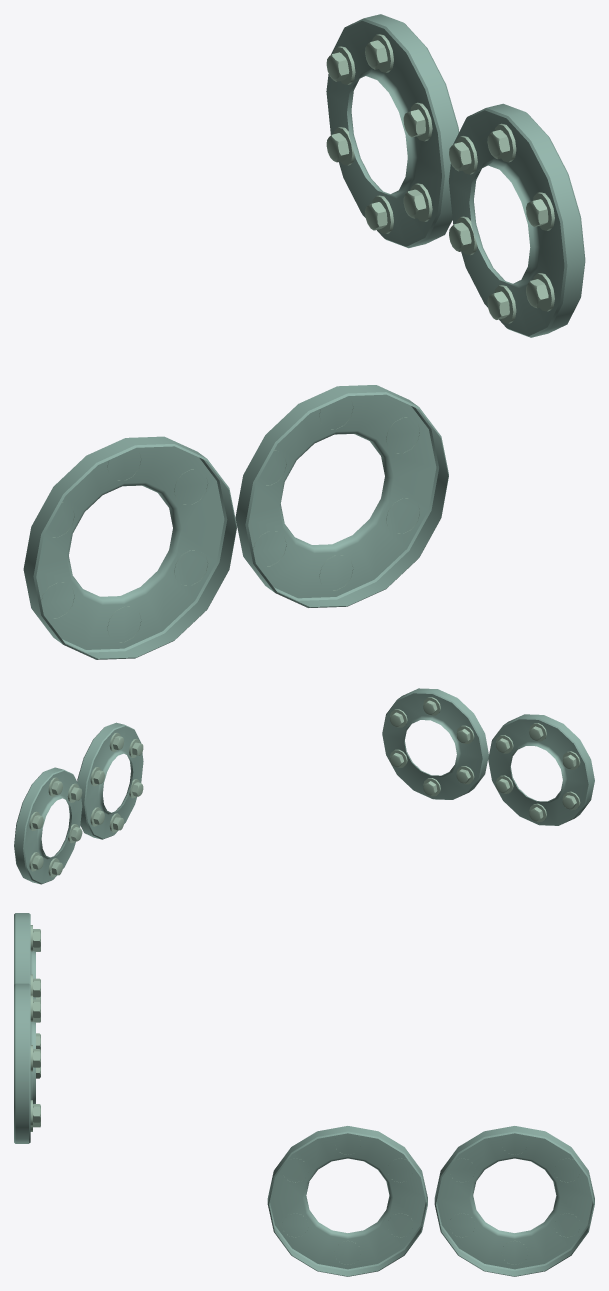
The model's file is PipeComplexLarge_A3_19_End.fbx.
3 renders of one model, top to bottom at view 1: azimuth 30°, elevation 25°; view 2: azimuth 150°, elevation 25°; view 3: azimuth 270°, elevation 25°, orthographic. The views are drawn at different scales.
Visible parts, largest first — view 1: PipeComplexLarge_A3_19_End.001; view 2: PipeComplexLarge_A3_19_End.001; view 3: PipeComplexLarge_A3_19_End.001.
Part boxes in pixels (box(x1,y1,x2,y2)): PipeComplexLarge_A3_19_End.001: box(23, 14, 585, 659); PipeComplexLarge_A3_19_End.001: box(14, 688, 594, 884); PipeComplexLarge_A3_19_End.001: box(14, 913, 594, 1276).
Size of the model in its own units: 1.39 by 0.3846 by 1.39.
